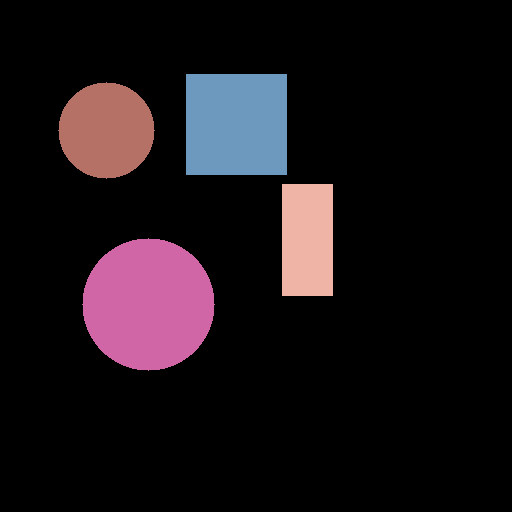circle: (82, 238, 214, 370), (58, 82, 154, 178)
rectangle: (282, 184, 332, 295)
square: (186, 74, 286, 174)
